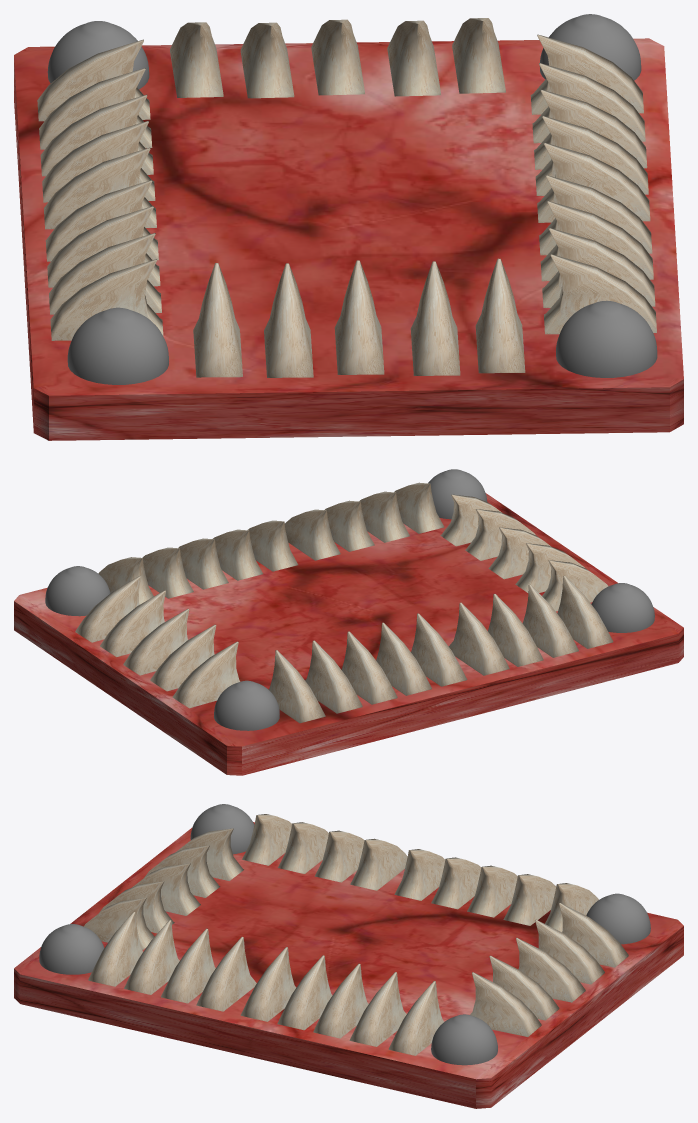
File: plataforma_movil.fbx
The picture shows the model from 3 angles, top to bottom: view 1: azimuth 30°, elevation 25°; view 2: azimuth 150°, elevation 25°; view 3: azimuth 270°, elevation 25°; orthographic projection. The views are drawn at different scales.
Parts seen in each view (by area): view 1: polySurface8; view 2: polySurface8; view 3: polySurface8.
Part boxes in pixels (x1,y1,x2,y2): polySurface8: (14, 14, 683, 440); polySurface8: (14, 469, 683, 775); polySurface8: (14, 804, 683, 1108).
Bounding box in the file's own units: 942 × 131 × 1009.
